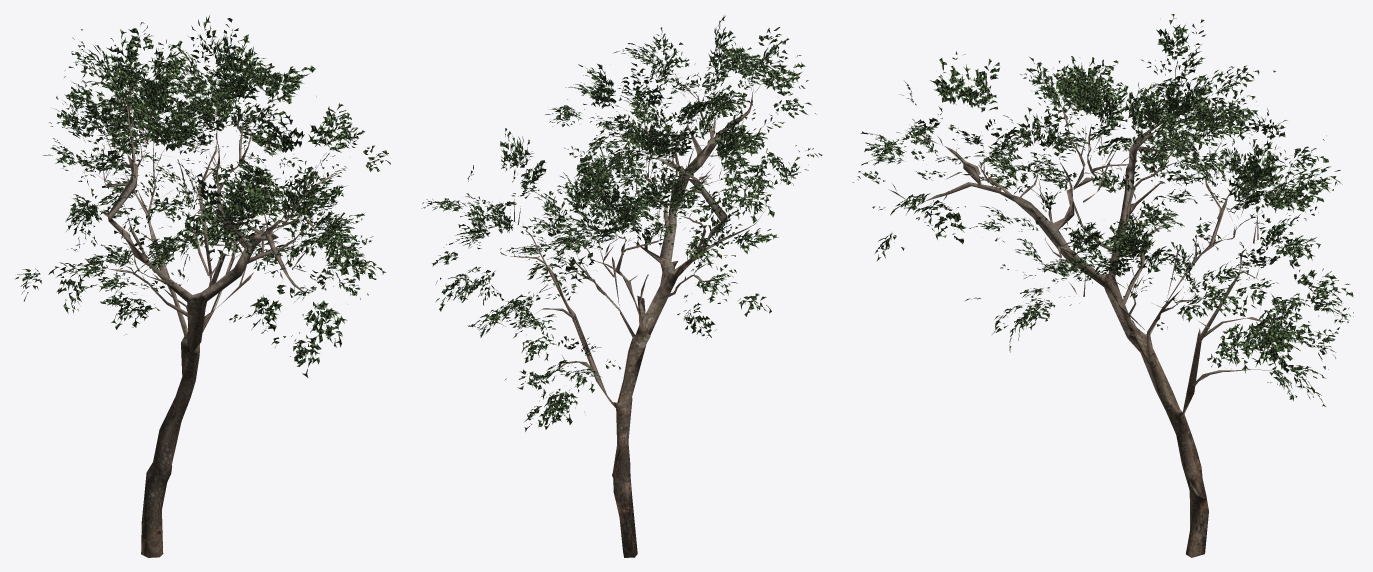
The model's file is tree_small.glb.
3 views of the same model, side by side, from view 1: azimuth 30°, elevation 25°; view 2: azimuth 150°, elevation 25°; view 3: azimuth 270°, elevation 25° (orthographic). The views are drawn at different scales.
Parts seen in each view (by area): view 1: tree_small_02_LOD0; view 2: tree_small_02_LOD0; view 3: tree_small_02_LOD0.
Part boxes in pixels (x1,y1,x2,y2): tree_small_02_LOD0: (15, 15, 390, 557); tree_small_02_LOD0: (421, 15, 822, 557); tree_small_02_LOD0: (852, 14, 1353, 557).
Size of the model in its own units: 2.88 by 4.54 by 4.17.
Materials: 3 (3 with a texture image).
